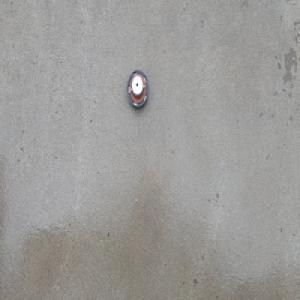FuelCap: (126, 69, 148, 110)
